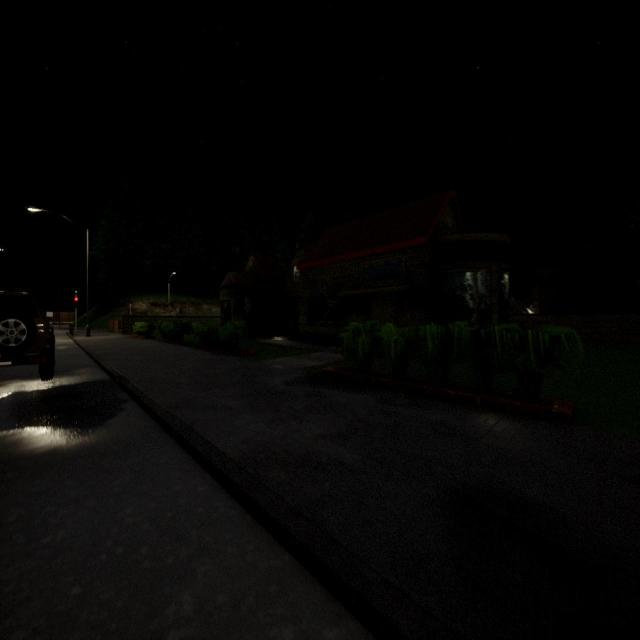Vehicle: (0, 290, 55, 380)
traffic_light: (74, 295, 78, 307)
